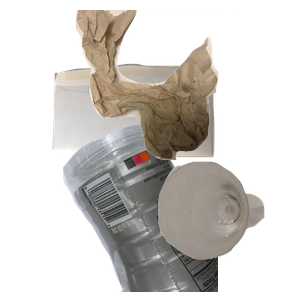glass: (156, 159, 300, 300)
paper: (50, 61, 257, 211)
plastic: (60, 120, 300, 300)
trash: (73, 10, 300, 163)
